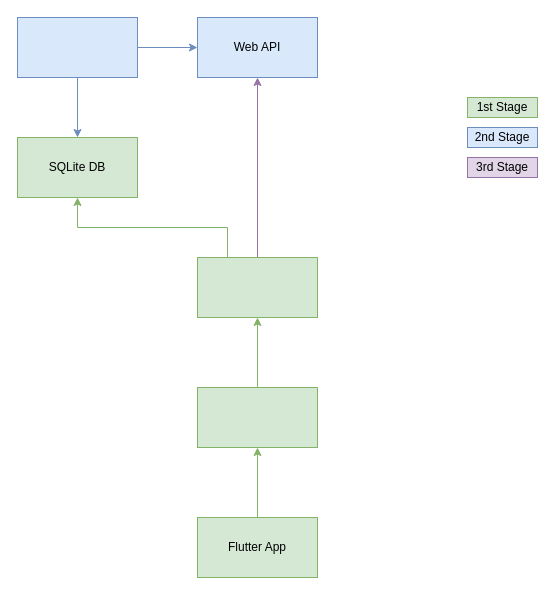
The diagram is 555 pixels wide and 595 high, and some of its shapes have lost their labels. Here are the shapes that lost their labels. From the top down, the box of each, then its label:
(16, 16, 138, 78): Sync Service
(196, 256, 318, 318): Repository
(196, 386, 318, 448): Service (Business Logic)
